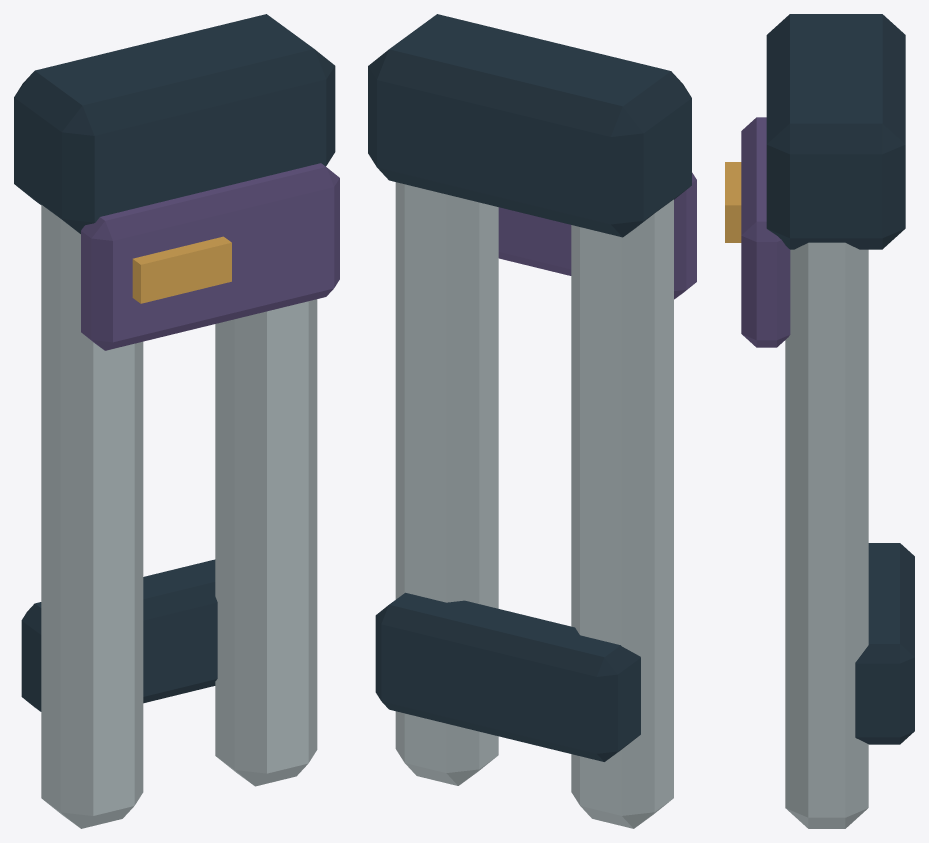
File: ping_clip.glb
The picture shows the model from 3 angles, left to right: view 1: azimuth 30°, elevation 25°; view 2: azimuth 150°, elevation 25°; view 3: azimuth 270°, elevation 25°; orthographic projection. The views are drawn at different scales.
Visible parts, largest first — view 1: ping_clip; view 2: ping_clip; view 3: ping_clip.
Boxes of the visible parts, x1,y1,x2,y2 form: ping_clip: (14,14,339,828); ping_clip: (368,14,696,828); ping_clip: (725,14,914,828).
Size of the model in its own units: 0.3905 by 1 by 0.2426.
